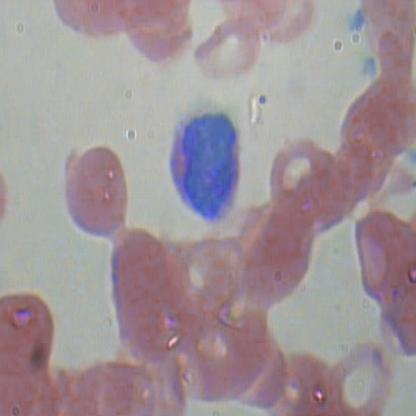Platelets: (349, 5, 367, 40), (360, 56, 378, 81)
RBC: (56, 144, 140, 248), (345, 204, 415, 305), (178, 231, 254, 318), (96, 231, 171, 318), (262, 129, 336, 217), (320, 338, 397, 415), (191, 18, 266, 94), (1, 290, 64, 379), (356, 74, 415, 160), (71, 358, 137, 415)
WBC: (162, 96, 247, 226)
